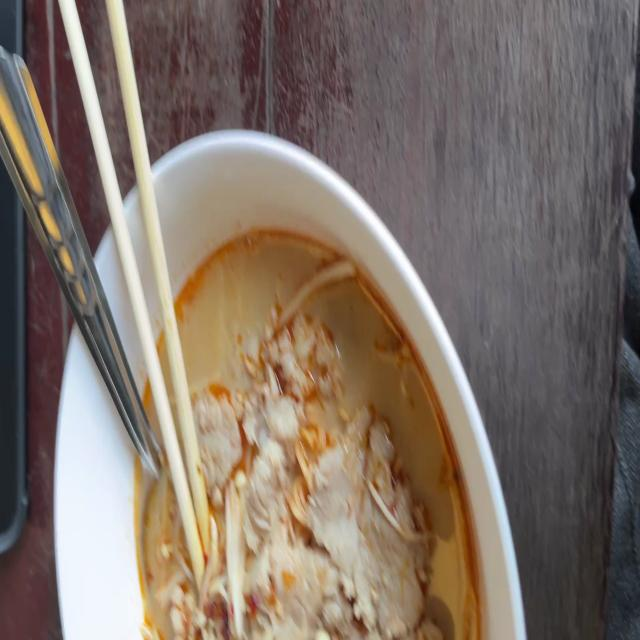noodle: (127, 226, 487, 640)
